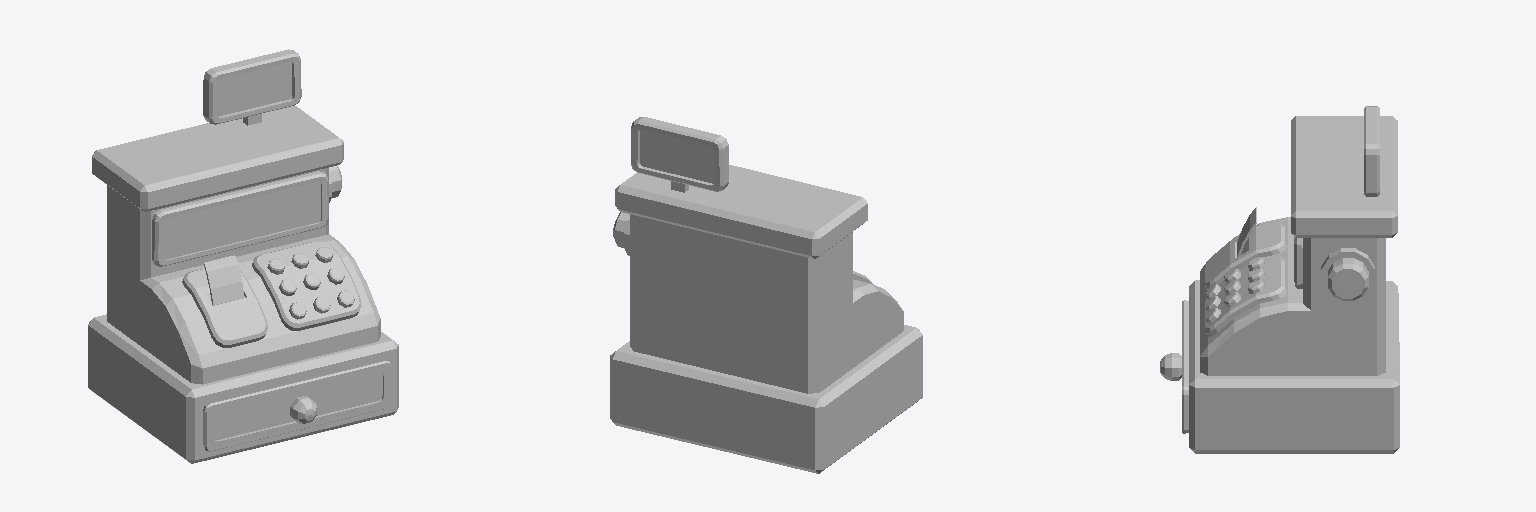
The model's file is cash_register.obj.
3 views of the same model, side by side, from view 1: azimuth 30°, elevation 25°; view 2: azimuth 150°, elevation 25°; view 3: azimuth 270°, elevation 25° (orthographic).
Parts seen in each view (by area): view 1: cash_register; view 2: cash_register; view 3: cash_register.
Boxes of the visible parts, x1,y1,x2,y2 form: cash_register: [88, 49, 398, 463]; cash_register: [610, 117, 922, 473]; cash_register: [1160, 106, 1399, 453].
Size of the model in its own units: 0.9367 by 1.2 by 0.8694.